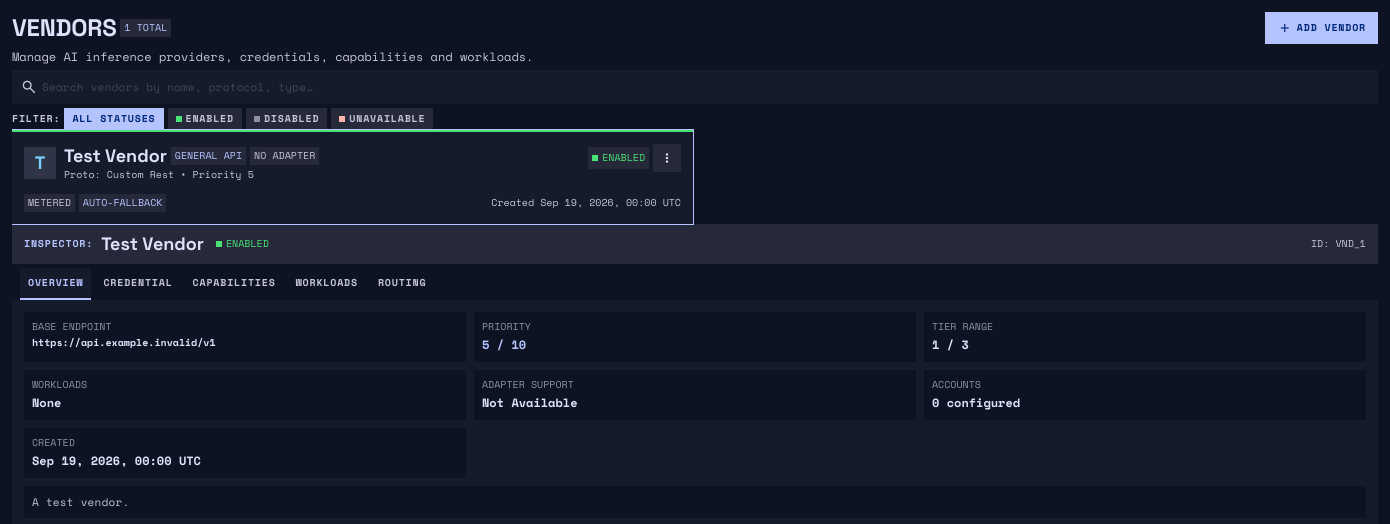
Test case: Vendors page › capabilities tab shows a data-driven empty state instead of hardcoded options
Expected: the text "Test Vendor" next to "General Api" is shown, [64,144,167,167]
What coordinates should you click on to do the following:
click the button "Capabilities"
I would click on:
 (234, 284)
Its box is [185,268,284,300].
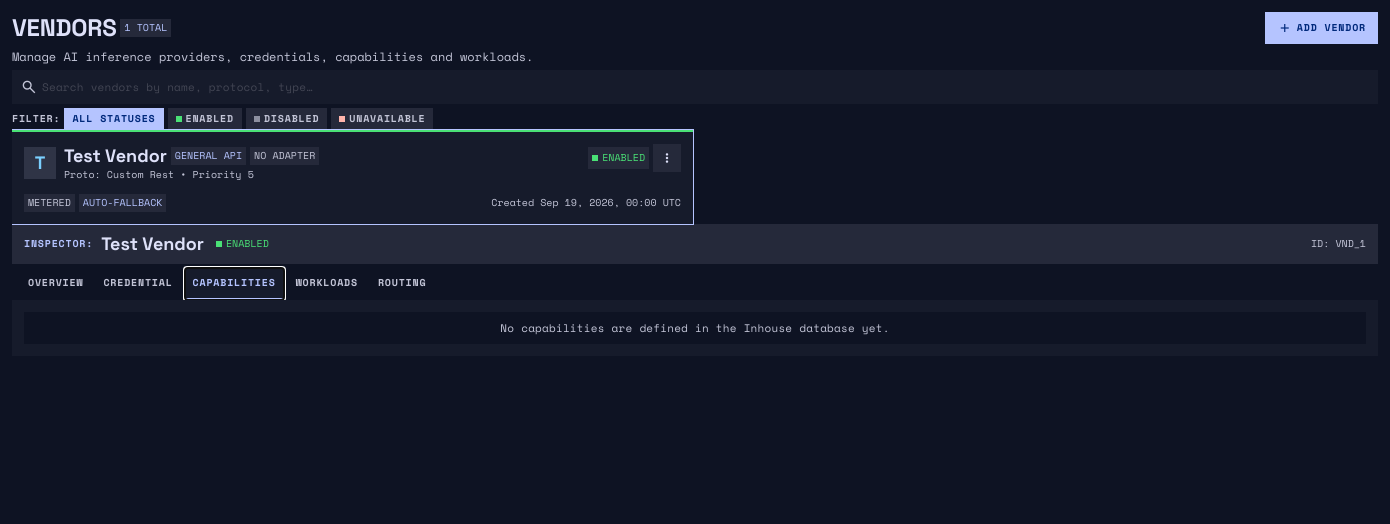
Expected: the text "No capabilities are defined in the Inhouse database yet." is shown, [24,312,1366,344]
